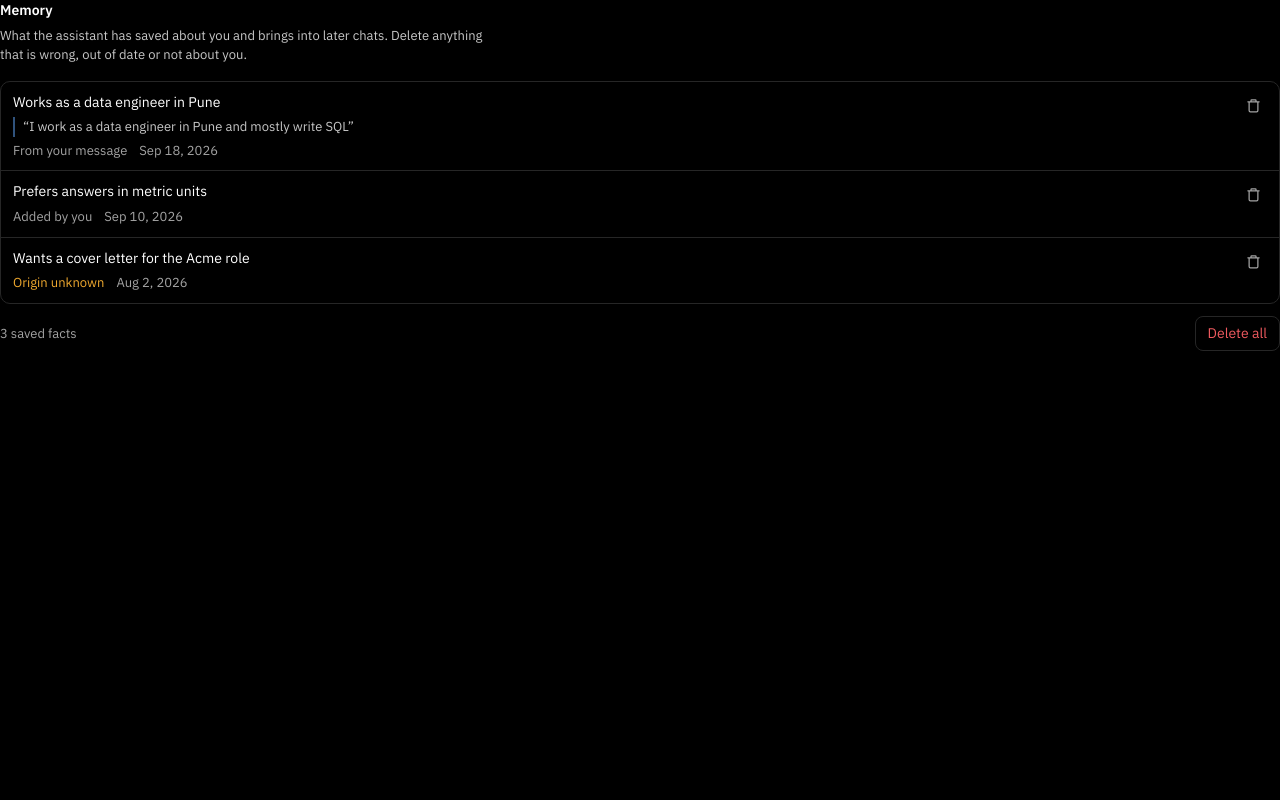
Test: MemoryPanel › cancelling a delete sends nothing and keeps the row
Check: the number of list items with test id "memory-fact" is 3, box [1,82,1279,170]; [1,170,1279,237]; [1,237,1279,303]
What coordinates should you click on to do the following:
click the button named "Delete"
I would click on:
 (1254, 105)
Its box is [1240,92,1267,119].
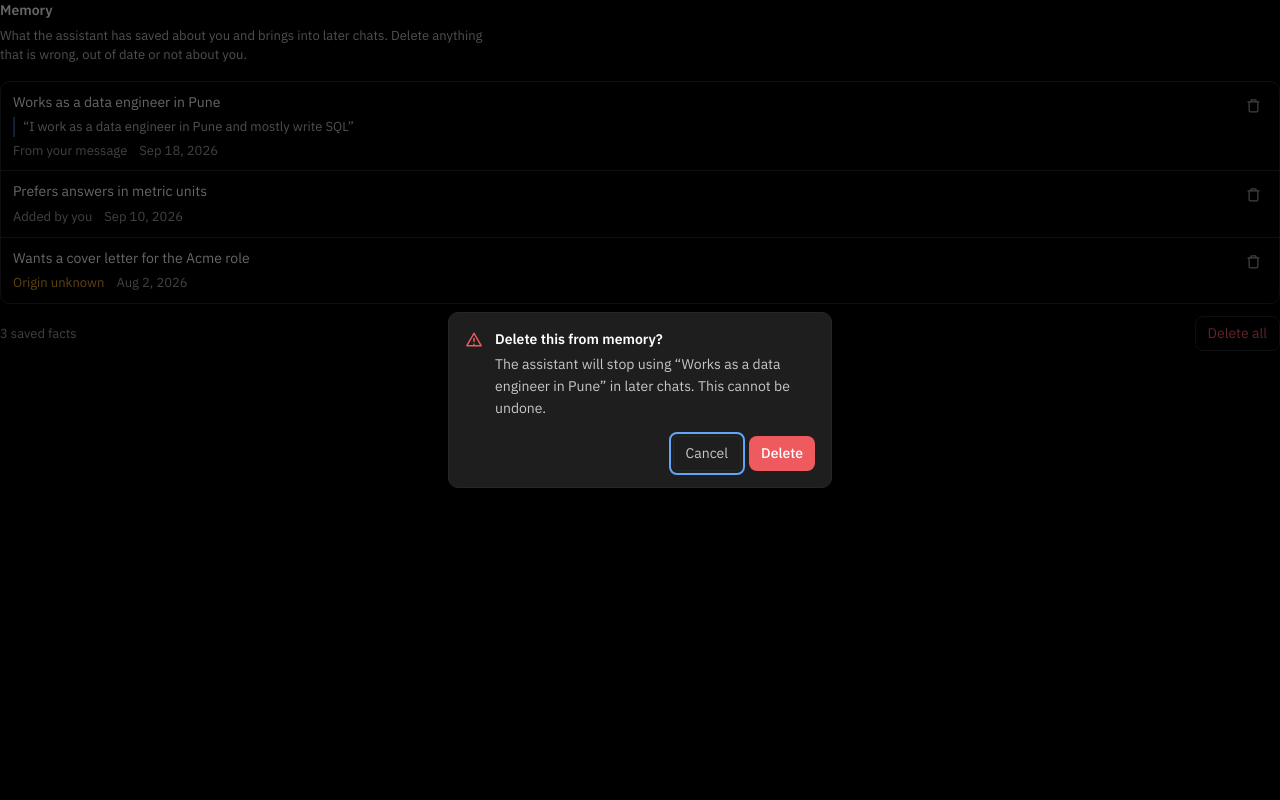
What coordinates should you click on to do the following:
click the button "Cancel"
I would click on:
 (707, 453)
Its box is [672,436,741,471].
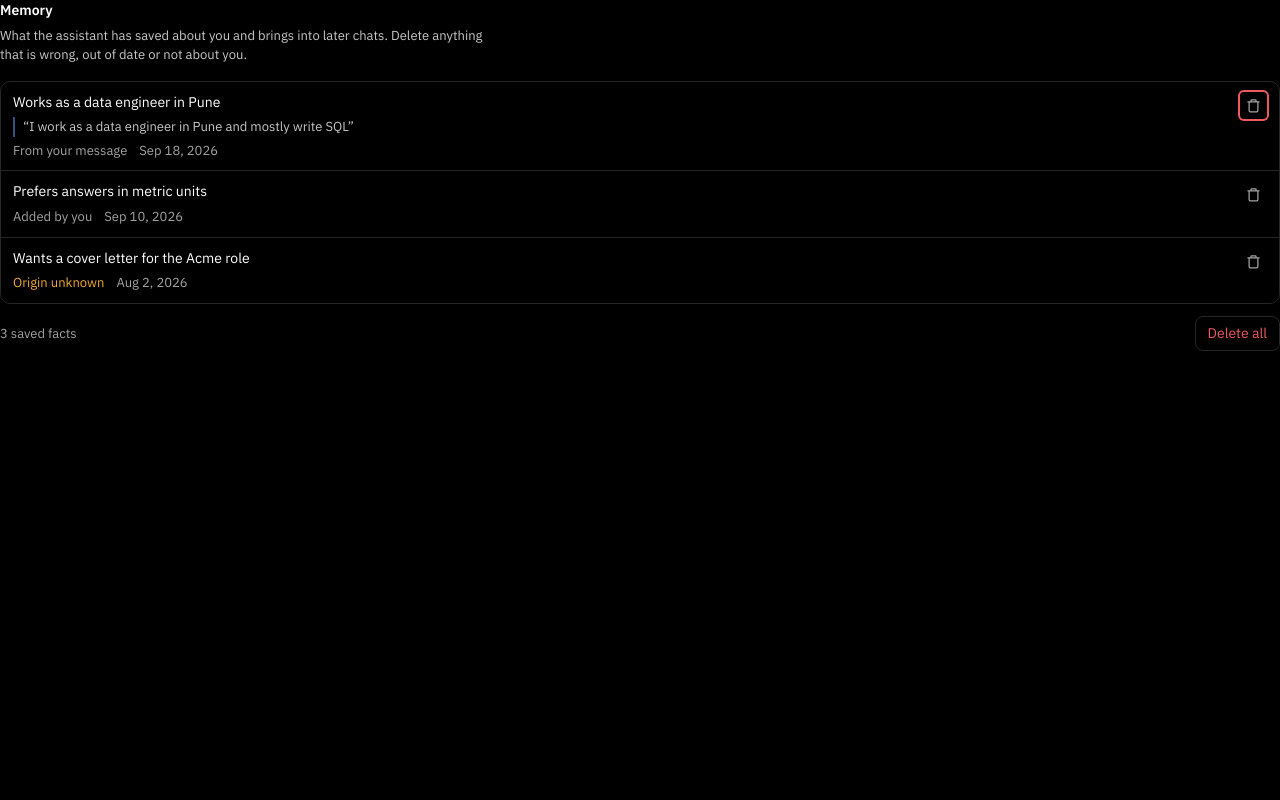
Check: the number of list items with test id "memory-fact" is 3, box [1,82,1279,170]; [1,170,1279,237]; [1,237,1279,303]
Check: the dialog is gone
